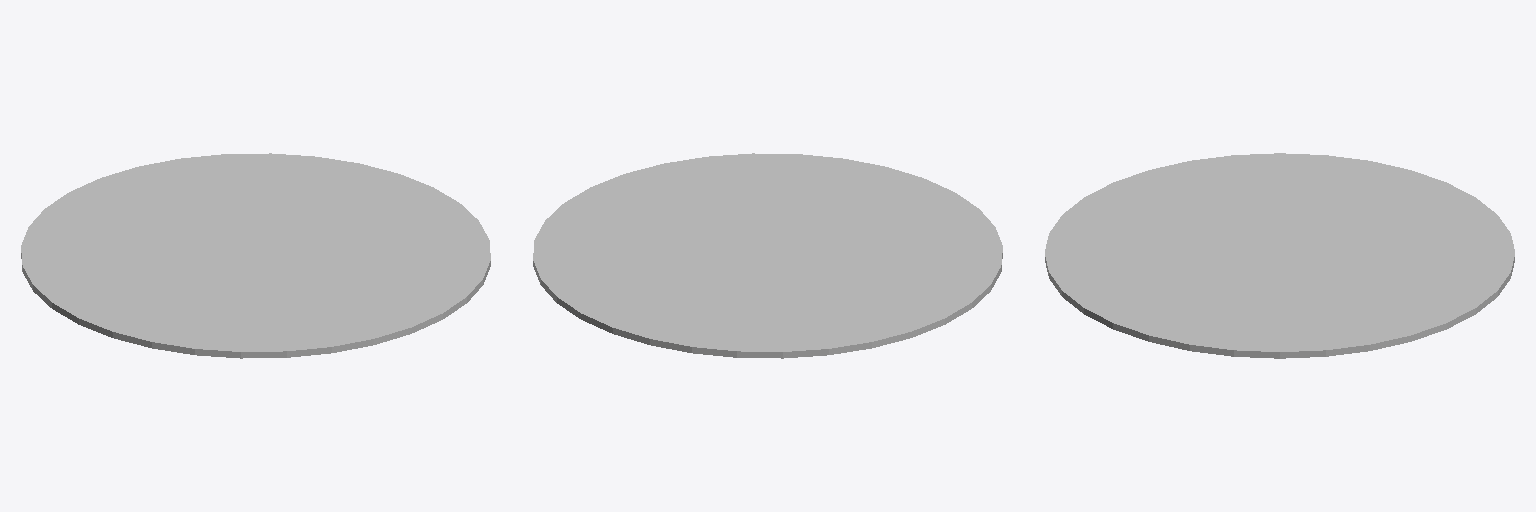
The model's file is pizzapan2obj.obj.
The picture shows the model from 3 angles: view 1: azimuth 30°, elevation 25°; view 2: azimuth 150°, elevation 25°; view 3: azimuth 270°, elevation 25°; orthographic projection.
Parts seen in each view (by area): view 1: Circle; view 2: Circle; view 3: Circle.
Boxes of the visible parts, x1=… form: Circle: x1=21, y1=153, x2=490, y2=358; Circle: x1=533, y1=153, x2=1002, y2=358; Circle: x1=1045, y1=153, x2=1514, y2=358.
Size of the model in its own units: 2 by 0.0302 by 2.